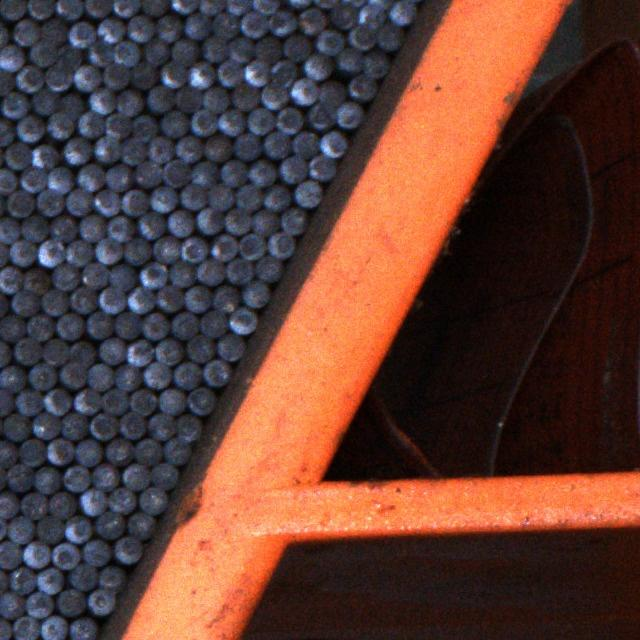tool: (330, 1, 358, 30), (44, 62, 72, 91), (161, 436, 190, 464), (185, 336, 214, 364), (35, 515, 64, 543), (68, 562, 97, 590), (260, 82, 288, 110), (278, 156, 306, 184), (162, 159, 190, 187), (134, 160, 162, 188), (76, 163, 104, 191), (6, 189, 34, 217), (228, 306, 256, 334), (152, 236, 180, 264), (138, 261, 166, 289), (11, 288, 39, 316), (105, 437, 133, 465), (122, 463, 150, 491), (107, 487, 135, 515), (6, 516, 34, 544), (14, 65, 43, 92), (105, 164, 134, 191), (48, 216, 77, 243), (137, 487, 166, 514), (55, 313, 84, 340), (303, 54, 333, 80), (375, 23, 403, 50), (240, 10, 267, 38), (254, 36, 281, 64), (320, 130, 347, 158), (262, 131, 290, 158), (219, 160, 247, 187), (190, 162, 218, 189), (146, 136, 174, 163), (35, 188, 62, 216), (65, 188, 93, 215), (78, 214, 105, 242), (106, 215, 134, 242), (194, 207, 222, 234), (202, 359, 230, 386), (186, 387, 214, 414), (114, 535, 141, 563), (36, 239, 63, 267), (210, 234, 237, 262), (238, 233, 266, 260), (99, 286, 126, 314), (140, 312, 168, 339), (200, 310, 228, 337), (173, 362, 200, 390), (59, 412, 86, 440), (134, 438, 161, 466), (5, 464, 32, 492), (62, 465, 90, 492), (22, 540, 49, 568), (297, 8, 326, 34), (71, 65, 100, 91), (85, 364, 114, 390), (88, 414, 117, 440), (58, 588, 84, 617), (361, 51, 388, 78), (290, 77, 317, 104), (292, 132, 319, 159), (121, 189, 148, 216), (235, 184, 262, 211), (263, 183, 290, 210), (20, 215, 47, 242), (223, 207, 250, 234), (95, 237, 122, 264), (123, 238, 150, 265), (70, 286, 97, 313), (183, 285, 210, 312), (85, 311, 112, 338), (115, 364, 142, 391), (28, 362, 55, 389), (96, 511, 123, 538), (38, 20, 66, 46), (183, 13, 211, 39), (315, 30, 343, 56), (308, 103, 336, 129), (231, 84, 259, 110), (160, 111, 188, 137), (294, 181, 322, 207), (266, 232, 294, 258), (241, 280, 269, 306), (148, 463, 176, 489), (126, 512, 154, 538), (52, 262, 78, 290), (80, 262, 108, 288), (168, 260, 196, 286), (0, 314, 26, 342), (26, 315, 54, 341), (170, 313, 198, 339), (14, 337, 40, 365), (142, 362, 170, 388), (100, 388, 128, 414), (33, 466, 59, 494), (91, 463, 117, 491), (82, 540, 110, 566), (25, 592, 53, 618), (216, 110, 245, 135), (95, 19, 125, 43), (68, 21, 94, 48), (212, 13, 239, 39), (29, 40, 56, 66), (102, 62, 128, 89), (270, 60, 296, 87), (318, 81, 344, 108), (276, 108, 303, 134), (247, 108, 274, 134), (190, 109, 216, 136), (15, 116, 42, 142), (77, 111, 103, 138), (233, 134, 260, 160), (175, 136, 202, 162), (63, 138, 90, 164), (94, 189, 120, 216), (166, 210, 192, 237), (251, 209, 278, 235), (280, 207, 306, 234), (87, 588, 114, 614), (8, 239, 35, 265), (65, 240, 92, 266), (180, 236, 207, 262), (21, 269, 48, 295), (41, 288, 68, 314), (127, 286, 154, 312), (156, 284, 182, 311), (212, 285, 238, 312), (42, 339, 68, 366), (126, 339, 152, 366), (154, 340, 181, 366), (15, 389, 42, 415), (44, 388, 70, 415), (78, 488, 105, 514), (64, 516, 91, 542), (36, 567, 62, 594), (388, 0, 416, 25), (268, 10, 296, 35), (348, 75, 376, 100), (307, 155, 335, 180), (69, 340, 94, 368), (158, 389, 186, 414), (73, 440, 101, 465), (127, 16, 153, 42), (154, 15, 180, 41), (188, 62, 214, 88), (161, 62, 187, 88), (130, 62, 156, 88), (218, 60, 244, 86), (336, 101, 362, 127), (1, 92, 27, 118), (115, 90, 141, 116), (46, 112, 72, 138), (104, 112, 130, 138), (130, 115, 156, 141), (46, 167, 72, 193), (19, 166, 45, 192), (150, 186, 176, 212), (180, 183, 206, 209), (217, 334, 243, 360), (174, 415, 200, 441), (98, 565, 124, 591), (108, 264, 134, 290), (197, 259, 223, 285), (225, 258, 251, 284), (114, 312, 140, 338), (59, 362, 85, 388), (73, 388, 99, 414), (32, 412, 58, 438), (46, 438, 72, 464), (52, 542, 78, 568), (20, 492, 46, 518), (8, 568, 34, 594), (348, 24, 375, 49), (204, 136, 231, 161), (247, 161, 274, 186), (139, 212, 164, 239), (98, 339, 125, 364), (3, 414, 30, 439), (148, 414, 175, 439), (358, 4, 386, 28), (282, 36, 310, 60), (201, 88, 229, 112), (0, 592, 24, 620), (113, 40, 139, 65), (172, 39, 198, 64), (244, 60, 269, 86), (5, 143, 30, 169), (31, 144, 57, 169), (94, 136, 120, 161), (208, 184, 233, 210), (120, 412, 145, 438), (18, 440, 44, 465), (48, 492, 73, 518), (40, 615, 66, 640), (254, 256, 281, 280), (147, 85, 172, 110), (89, 90, 115, 114), (120, 138, 144, 164), (0, 366, 24, 392), (130, 390, 156, 414), (12, 616, 38, 640), (173, 88, 200, 111), (69, 617, 96, 640), (13, 20, 38, 44), (228, 38, 253, 62), (202, 37, 226, 62), (337, 48, 363, 71), (0, 46, 23, 72), (60, 95, 84, 119), (90, 41, 113, 66), (30, 92, 55, 115), (0, 541, 21, 568), (145, 40, 168, 64), (0, 266, 21, 292), (26, 0, 54, 19), (0, 216, 19, 244), (56, 0, 82, 20), (0, 0, 26, 19), (85, 0, 114, 17), (113, 0, 139, 17), (0, 492, 17, 518), (140, 0, 168, 15), (0, 440, 15, 468), (0, 168, 15, 195), (200, 0, 226, 14), (226, 0, 252, 14), (253, 0, 279, 14), (0, 68, 13, 95), (172, 0, 198, 13), (0, 118, 12, 145), (0, 389, 11, 415), (368, 0, 396, 10)
tool_b: (57, 46, 81, 72)
